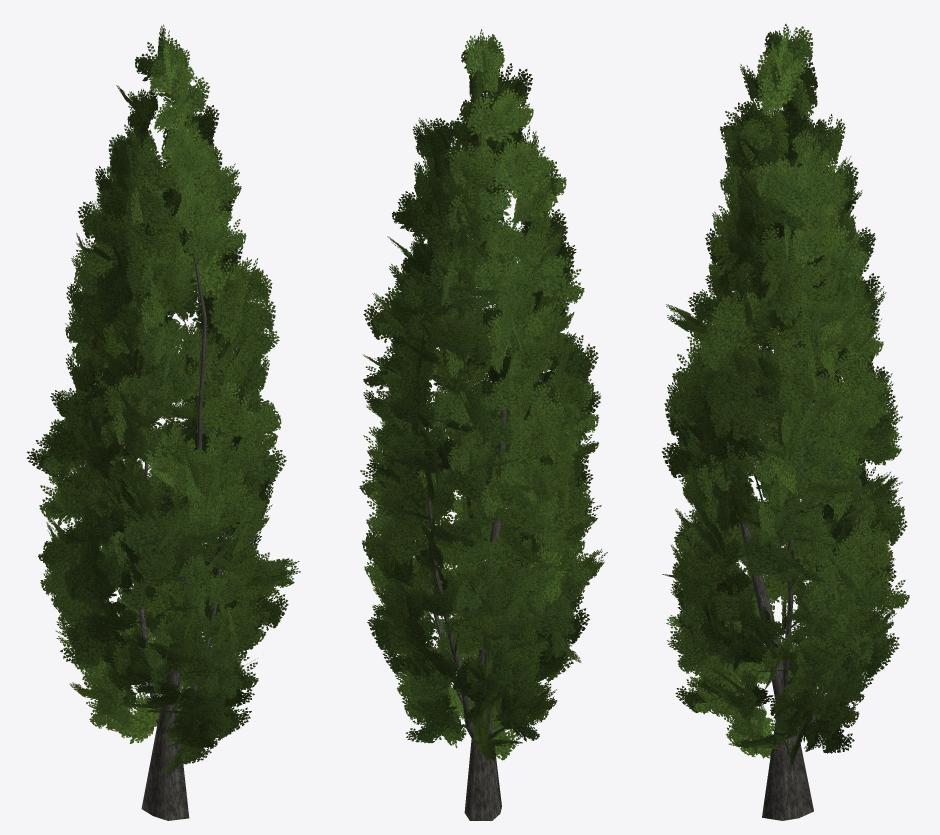
Rendered from arbre_peuplier_lod1.glb.
3 views of the same model, side by side, from view 1: azimuth 30°, elevation 25°; view 2: azimuth 150°, elevation 25°; view 3: azimuth 270°, elevation 25° (orthographic).
Visible parts, largest first — view 1: arbre_peuplier_lod1; view 2: arbre_peuplier_lod1; view 3: arbre_peuplier_lod1.
Boxes of the visible parts, x1,y1,x2,y2 form: arbre_peuplier_lod1: [26, 24, 300, 820]; arbre_peuplier_lod1: [359, 29, 607, 820]; arbre_peuplier_lod1: [661, 24, 909, 820].
Size of the model in its own units: 5.17 by 15.96 by 5.01.
2 materials, 2 textured.
